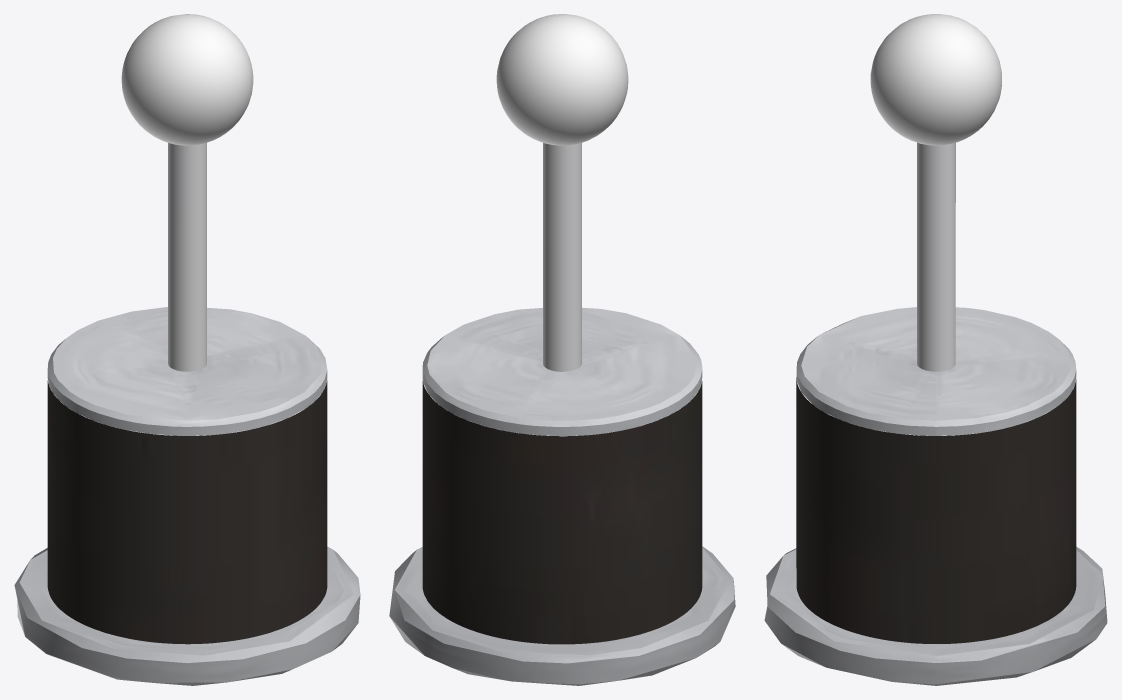
File: ferro-orbis_pawn_black.glb
3 views of the same model, side by side, from view 1: azimuth 30°, elevation 25°; view 2: azimuth 150°, elevation 25°; view 3: azimuth 270°, elevation 25° (orthographic).
Parts seen in each view (by area): view 1: ferro-orbis_pawn_black; view 2: ferro-orbis_pawn_black; view 3: ferro-orbis_pawn_black.
Part boxes in pixels (x1,y1,x2,y2): ferro-orbis_pawn_black: [14, 14, 360, 685]; ferro-orbis_pawn_black: [389, 14, 735, 685]; ferro-orbis_pawn_black: [764, 14, 1107, 685].
Bounding box in the file's own units: 0.0274 × 0.052 × 0.0272.
5 materials, 3 textured.
